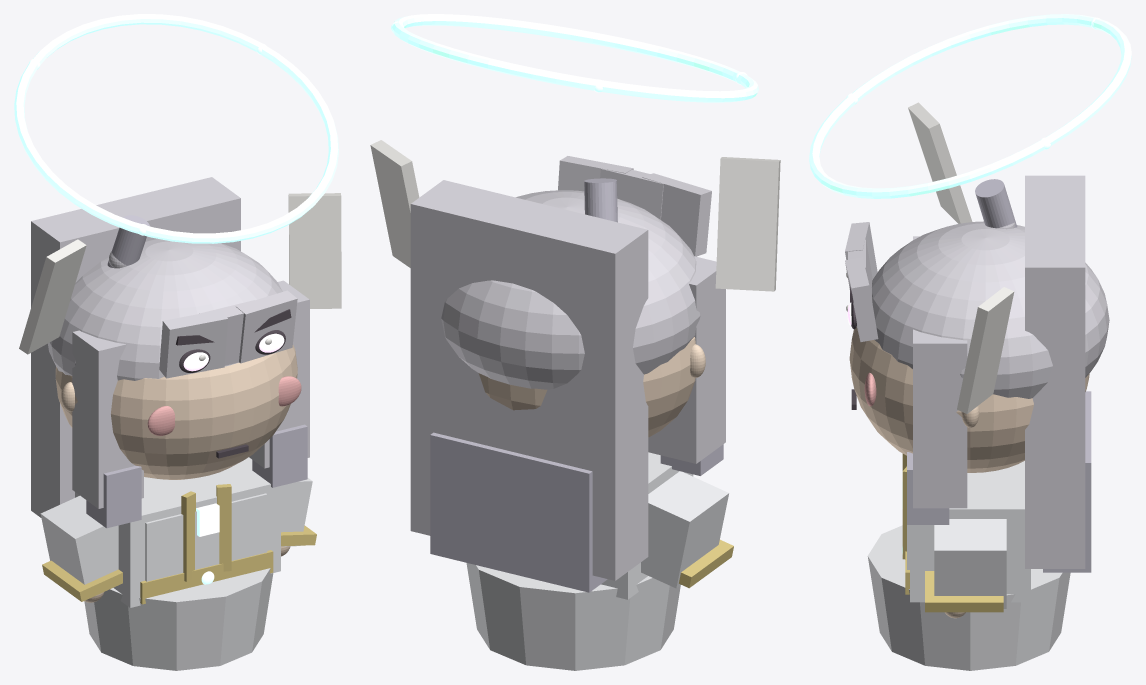
File: qing.glb
3 renders of one model, left to right at view 1: azimuth 30°, elevation 25°; view 2: azimuth 150°, elevation 25°; view 3: azimuth 270°, elevation 25°, orthographic. The views are drawn at different scales.
Visible parts, largest first — view 1: HairCap, Head, BackHair, RobeSkirt, Halo, FrontHair_L, Coat, Feather_R, CoatFront, Sleeve_L, Feather_L, Fringe_0 (+15 smaller); view 2: BackHair, HairCap, BackHairTip, RobeSkirt, Halo, Feather_L, FrontHair_L, Sleeve_L, Head, Feather_R, Fringe_0, Fringe_1 (+5 smaller); view 3: BackHair, HairCap, RobeSkirt, FrontHair_R, Head, Halo, Coat, Sleeve_R, Feather_R, Feather_L, Fringe_2, SleeveTrim_R (+4 smaller).
Part boxes in pixels (x1,y1,x2,y2): HairCap: [48, 239, 282, 380]; Head: [55, 345, 297, 479]; BackHair: [31, 177, 240, 517]; RobeSkirt: [84, 568, 273, 670]; Halo: [14, 14, 338, 243]; FrontHair_L: [72, 330, 143, 508]; Coat: [75, 458, 280, 607]; Feather_R: [288, 193, 341, 308]; CoatFront: [145, 493, 267, 581]; Sleeve_L: [40, 495, 118, 584]; Feather_L: [19, 239, 86, 354]; Fringe_0: [159, 310, 227, 378]; BackHair: [410, 180, 648, 580]; HairCap: [441, 190, 700, 389]; BackHairTip: [430, 432, 607, 592]; RobeSkirt: [466, 563, 680, 670]; Halo: [392, 14, 758, 102]; Feather_L: [715, 157, 780, 291]; FrontHair_L: [648, 256, 725, 463]; Sleeve_L: [641, 471, 729, 588]; Head: [478, 337, 695, 437]; Feather_R: [370, 140, 419, 267]; Fringe_0: [642, 173, 711, 256]; Fringe_1: [600, 168, 663, 219]; BackHair: [1025, 175, 1085, 568]; HairCap: [872, 221, 1109, 398]; RobeSkirt: [867, 525, 1070, 670]; FrontHair_R: [913, 329, 967, 508]; Head: [849, 326, 1089, 472]; Halo: [809, 14, 1131, 198]; Coat: [910, 461, 1030, 602]; Sleeve_R: [934, 519, 1006, 608]; Feather_R: [957, 287, 1014, 413]; Feather_L: [908, 102, 972, 223]; Fringe_2: [845, 257, 878, 341]; SleeveTrim_R: [925, 571, 1003, 612].
Bounding box in the file's own units: 1.27 × 1.99 × 1.
